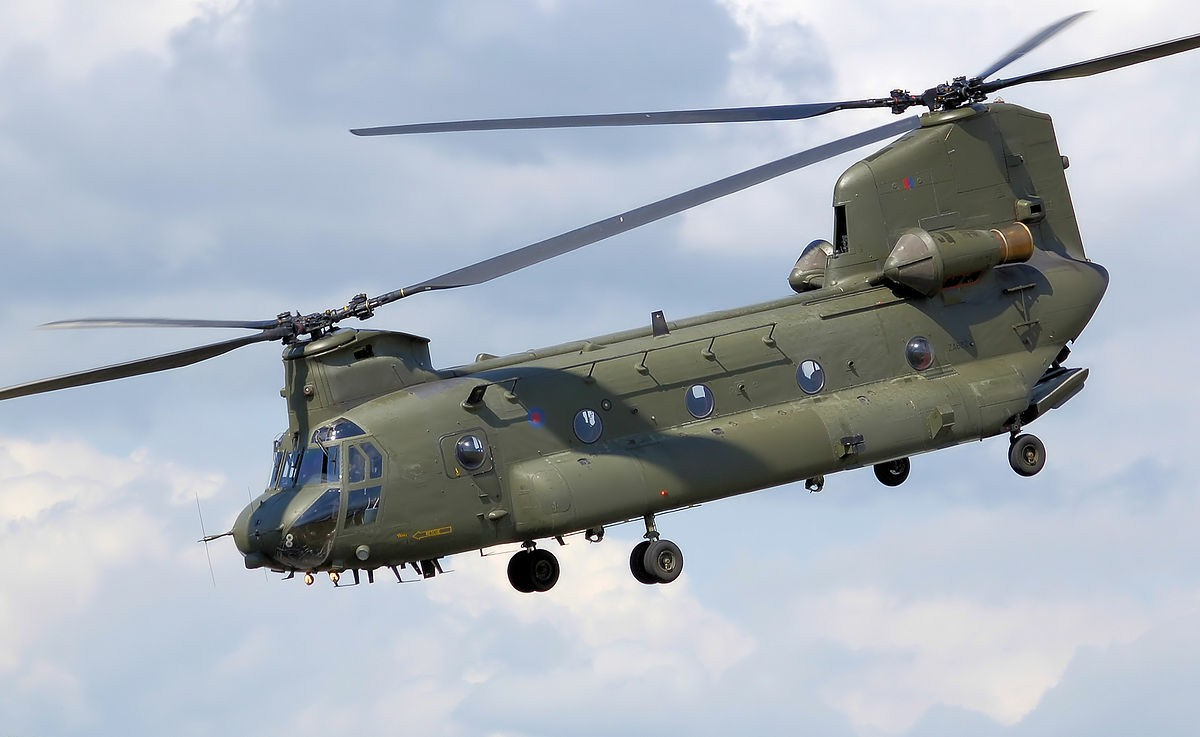chinook: (165, 38, 1130, 598)
